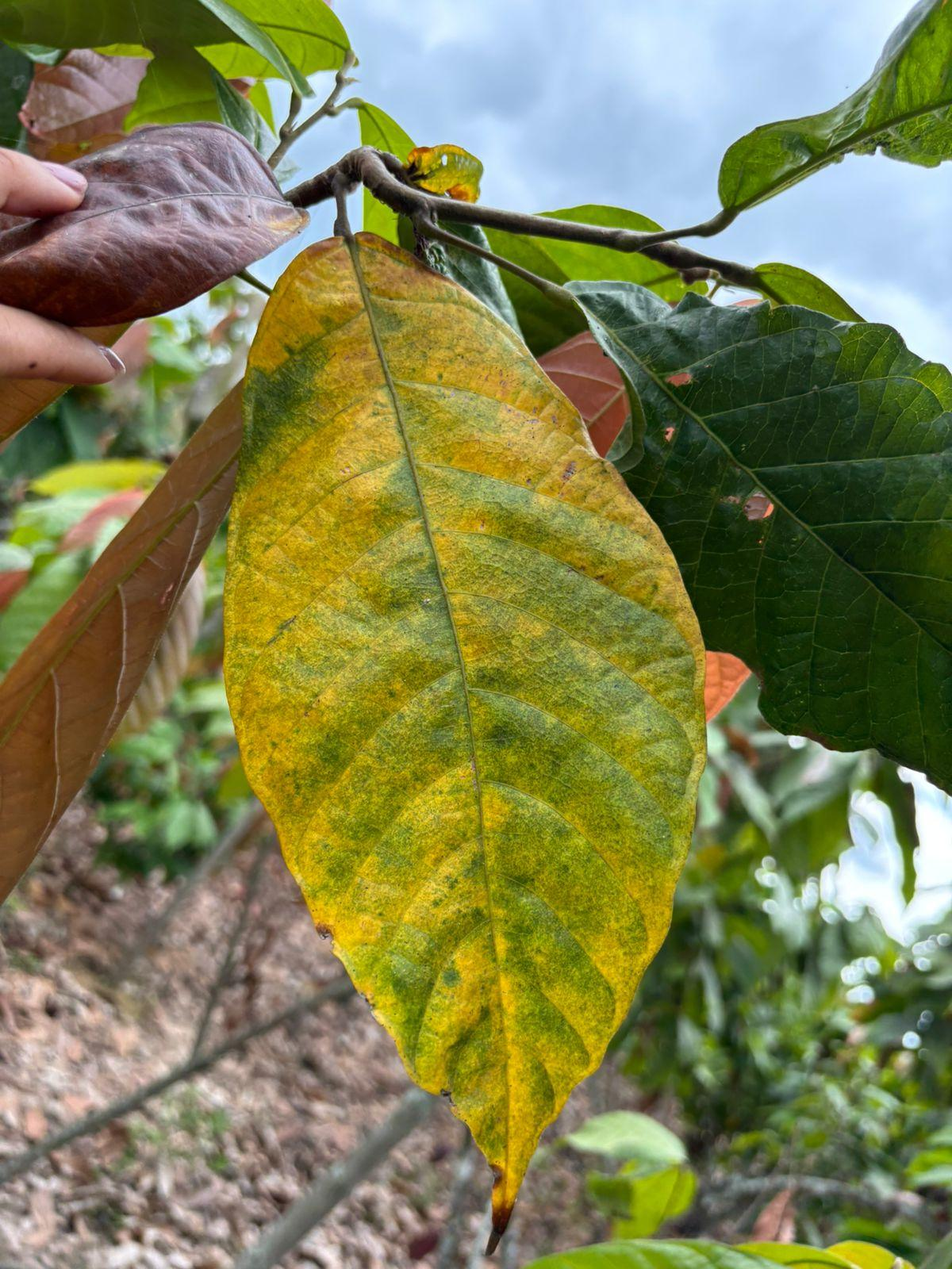deficienciia_fosforo: (225, 234, 704, 1245)
